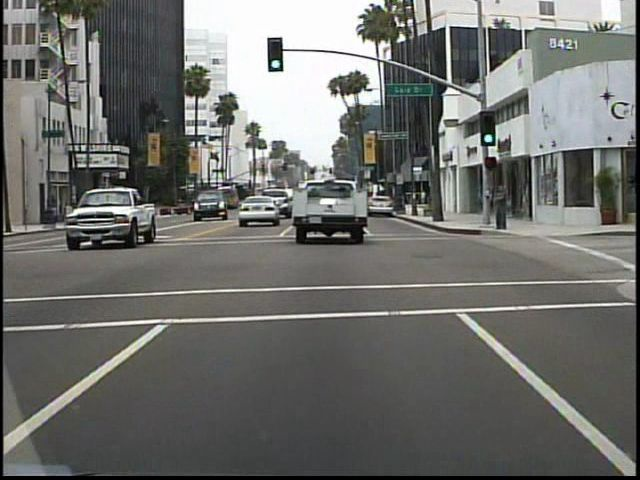person: (490, 178, 510, 234)
